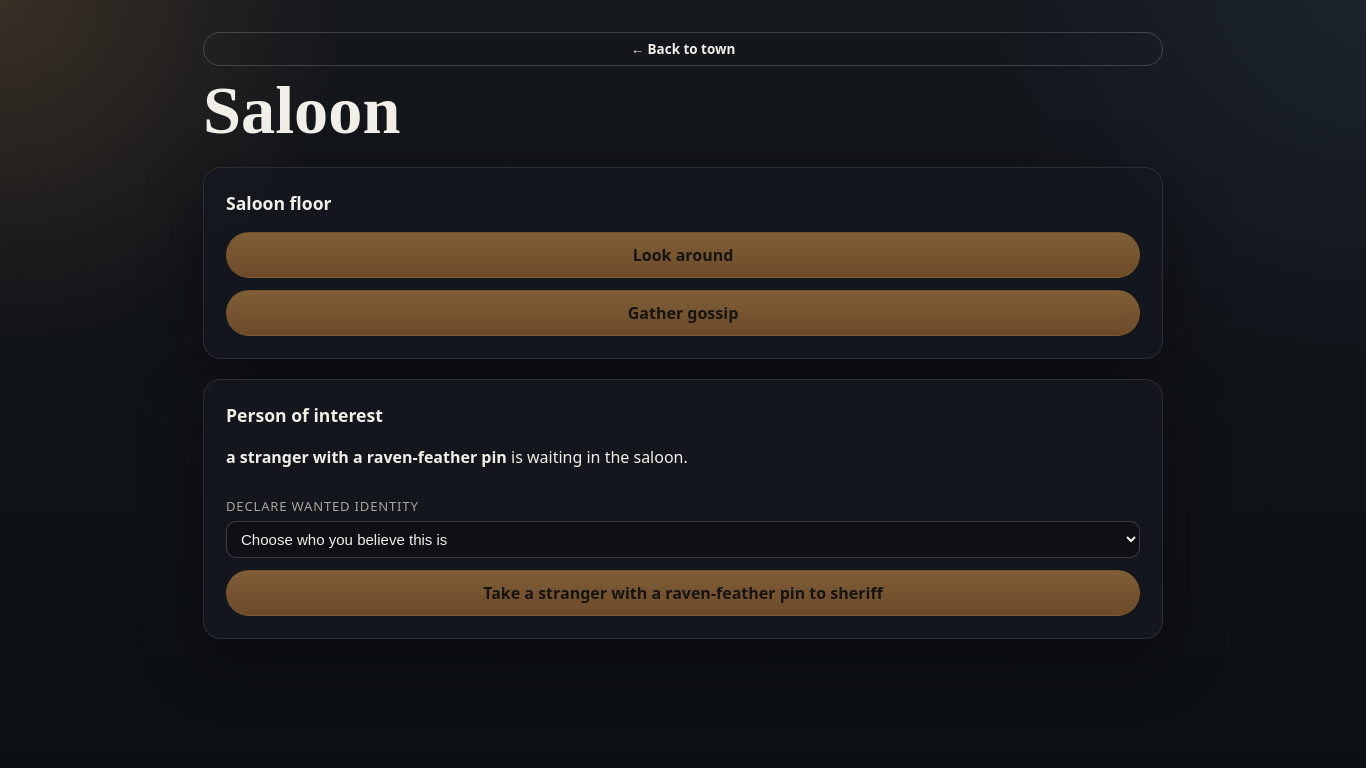
SaloonPlace › requires the player to declare an identity and displays the server outcome
The width and height of the screenshot is (1366, 768).
Check: the button "Take a stranger with a raven-feather pin to sheriff" is disabled, box [226, 570, 1140, 616]
Select "Mira Cline" in the dropdown labelled "Declare wanted identity": [683, 539] box [226, 520, 1140, 558]
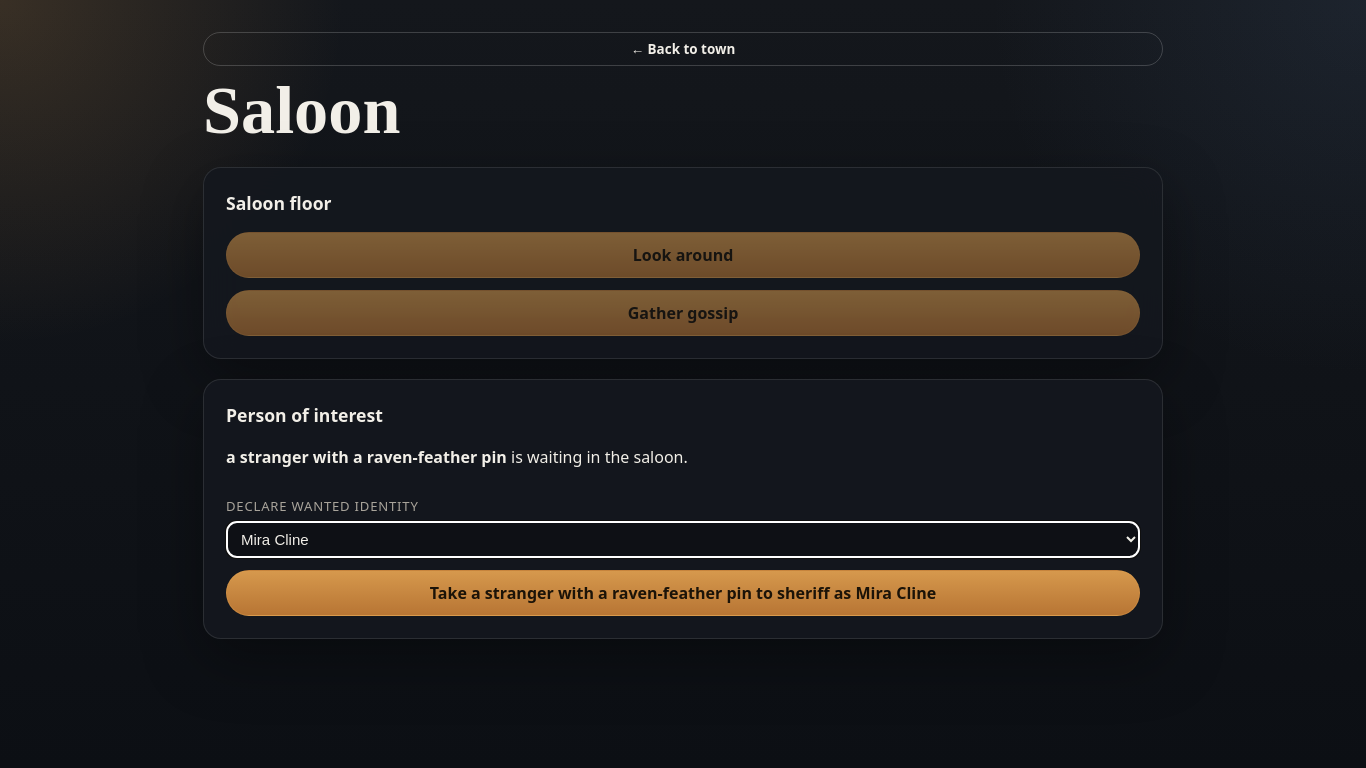
Check: the button "Take a stranger with a raven-feather pin to sheriff as Mira Cline" is enabled
Click the button "Take a stranger with a raven-feather pin to sheriff as Mira Cline": [683, 592] box [226, 570, 1140, 616]
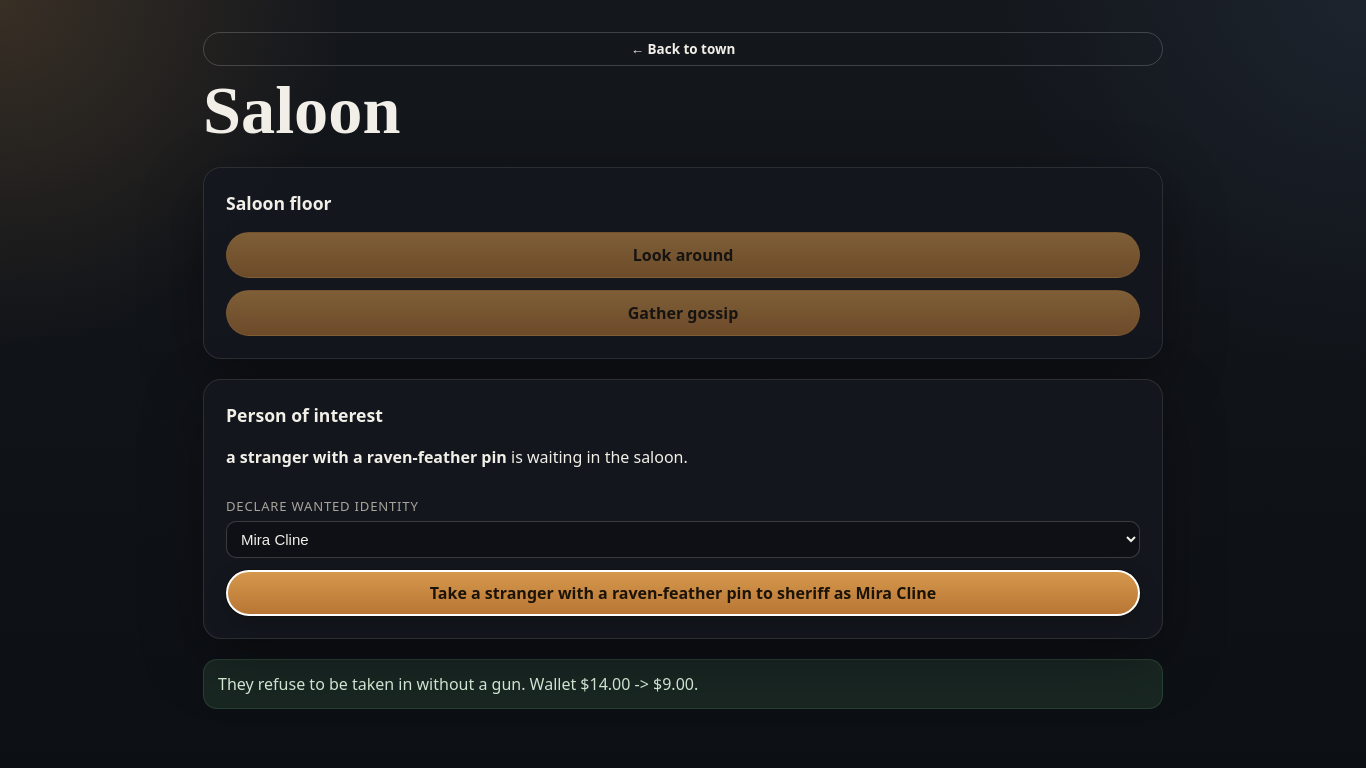
Check: the text "They refuse to be taken in without a gun. Wallet $14.00 -> $9.00." is shown, box [203, 658, 1163, 708]
